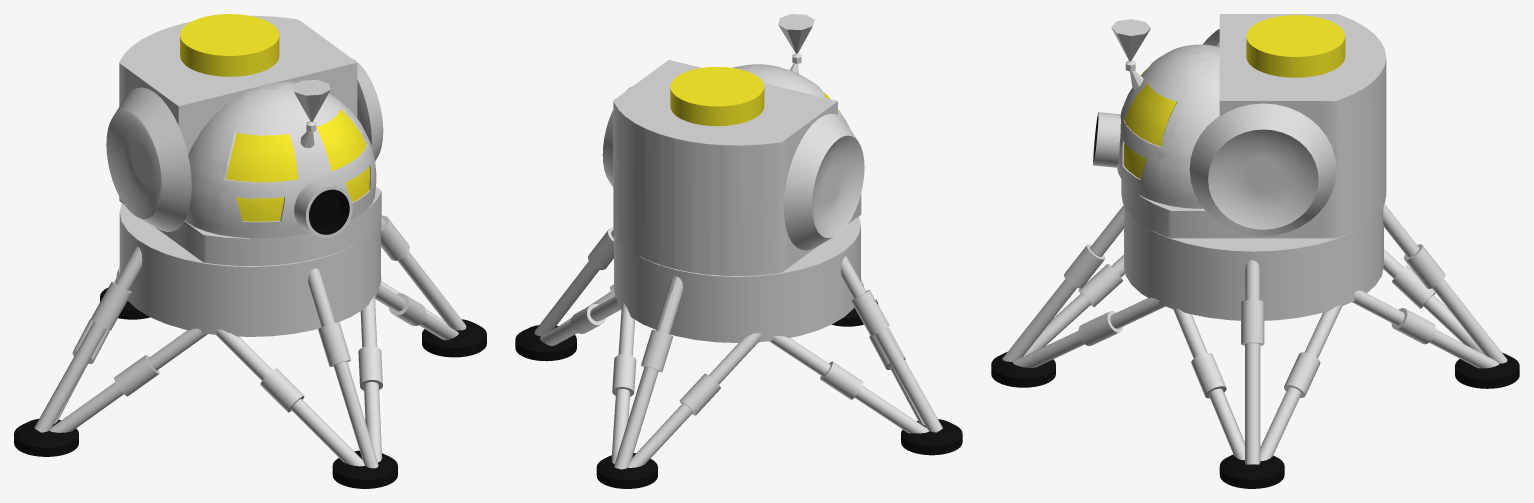
File: ModuleRough.fbx
3 views of the same model, side by side, from view 1: azimuth 30°, elevation 25°; view 2: azimuth 150°, elevation 25°; view 3: azimuth 270°, elevation 25° (orthographic). The views are drawn at different scales.
Visible parts, largest first — view 1: Module, Body3, Dodad2, Body1, Dodad1, Dodad3, Foot3, Foot4, Body2, Foot1; view 2: Module, Body3, Dodad4, Body1, Dodad1, Dodad3, Foot3, Foot2, Foot1, Body2; view 3: Module, Body3, Body2, Dodad3, Dodad2, Dodad4, Foot1, Foot2, Foot4.
Part boxes in pixels (x1=…): Module: x1=119, y1=14, x2=381, y2=266; Body3: x1=119, y1=203, x2=380, y2=336; Dodad2: x1=216, y1=268, x2=382, y2=468; Body1: x1=106, y1=87, x2=191, y2=231; Dodad1: x1=34, y1=246, x2=207, y2=432; Dodad3: x1=375, y1=215, x2=466, y2=340; Foot3: x1=14, y1=419, x2=78, y2=456; Foot4: x1=332, y1=450, x2=397, y2=488; Body2: x1=353, y1=59, x2=383, y2=160; Foot1: x1=422, y1=319, x2=486, y2=357; Module: x1=613, y1=14, x2=861, y2=275; Body3: x1=614, y1=216, x2=860, y2=342; Dodad4: x1=611, y1=276, x2=761, y2=469; Body1: x1=783, y1=113, x2=864, y2=250; Dodad1: x1=769, y1=256, x2=942, y2=433; Dodad3: x1=534, y1=227, x2=621, y2=345; Foot3: x1=901, y1=419, x2=962, y2=455; Foot2: x1=596, y1=453, x2=657, y2=488; Foot1: x1=515, y1=325, x2=576, y2=361; Body2: x1=602, y1=86, x2=632, y2=187; Module: x1=1093, y1=14, x2=1386, y2=238; Body3: x1=1124, y1=205, x2=1383, y2=320; Body2: x1=1189, y1=103, x2=1336, y2=236; Dodad3: x1=1173, y1=260, x2=1341, y2=464; Dodad2: x1=1002, y1=205, x2=1165, y2=367; Dodad4: x1=1352, y1=204, x2=1507, y2=368; Foot1: x1=1219, y1=454, x2=1284, y2=488; Foot2: x1=1455, y1=352, x2=1519, y2=388; Foot4: x1=991, y1=352, x2=1055, y2=387.
Bounding box in the file's own units: 456 × 329 × 451.
